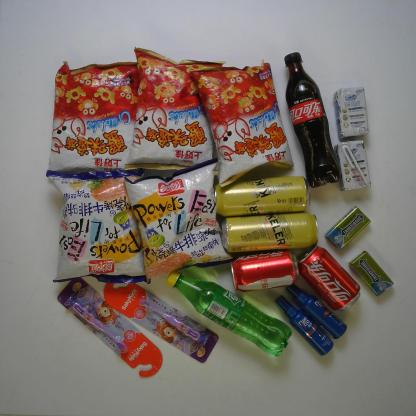Alcohol: (214, 174, 311, 217), (223, 212, 320, 252)
Drink: (166, 269, 292, 358), (282, 51, 341, 188), (298, 243, 361, 311), (230, 251, 300, 293)
Gum: (349, 251, 395, 298), (325, 205, 372, 250)
Milk: (334, 84, 372, 140), (335, 140, 372, 191)
Personal Hygiene: (56, 278, 164, 378), (103, 275, 219, 363), (274, 295, 334, 357), (285, 281, 348, 340)
Puffed Food: (123, 157, 236, 279), (190, 59, 296, 188), (123, 47, 227, 172), (46, 167, 152, 284), (45, 60, 147, 174)
